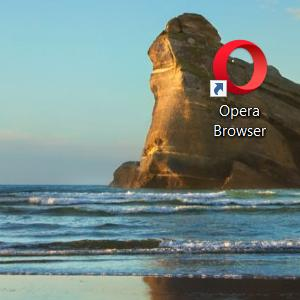opera: (209, 39, 268, 98)
